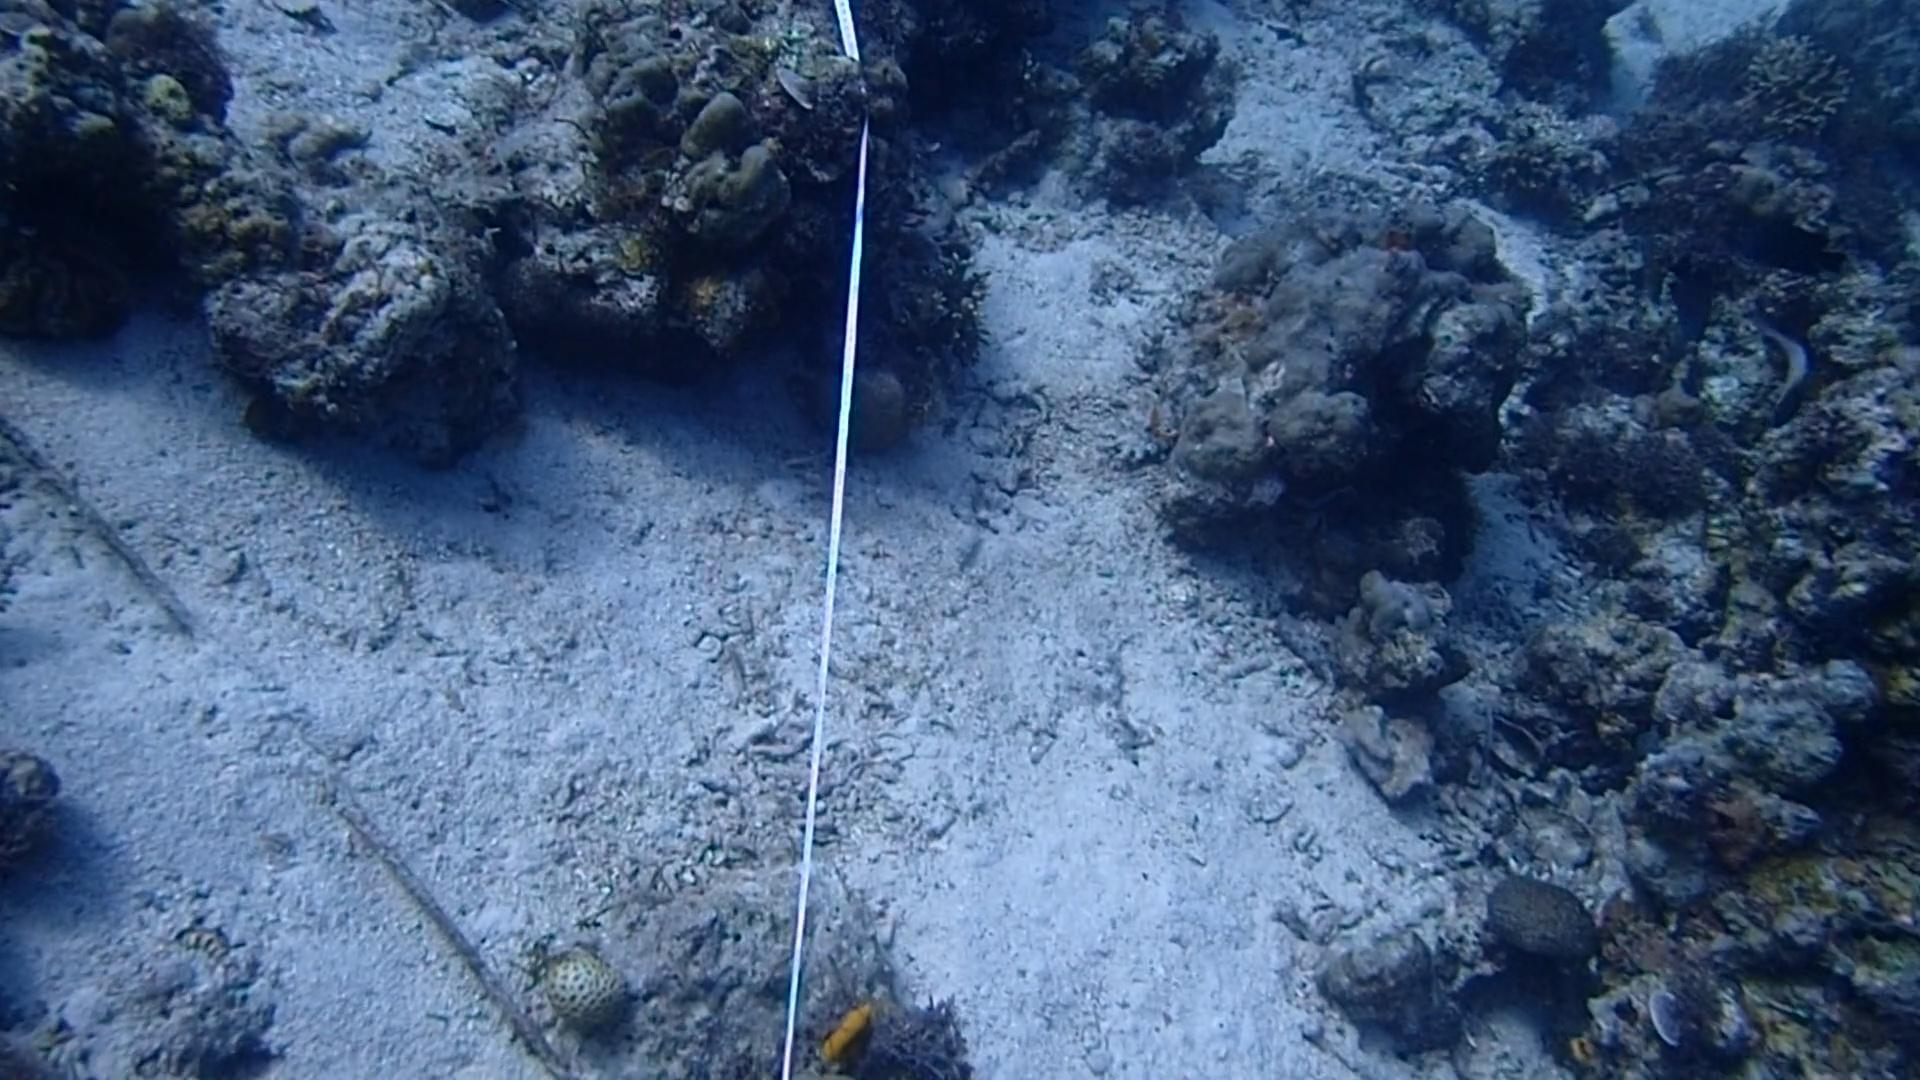Dark Fish: (1708, 198, 1851, 286), (1659, 251, 1722, 345)
